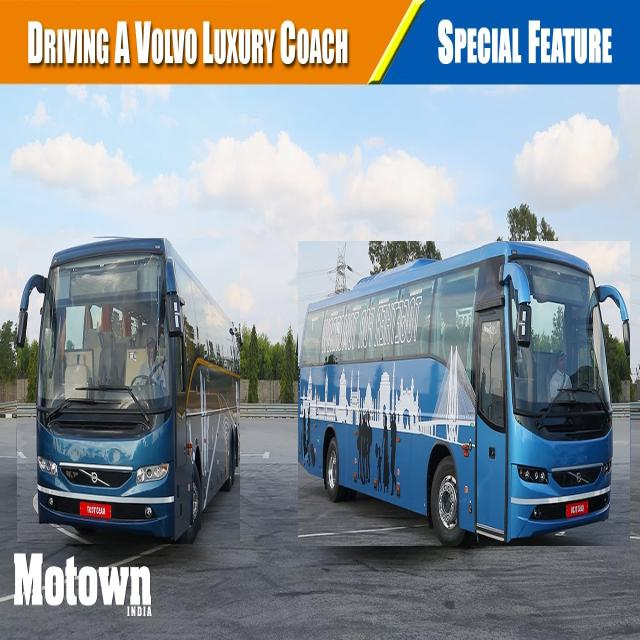bus: (298, 242, 630, 546), (18, 238, 240, 544)
